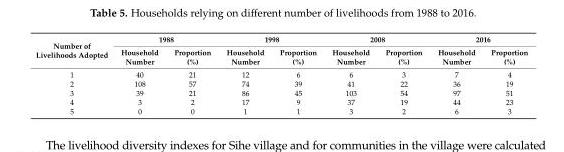table: (35, 34, 527, 115)
table column: (35, 34, 113, 115), (165, 34, 218, 115), (218, 34, 271, 115), (323, 34, 376, 115), (376, 34, 429, 115), (429, 34, 482, 115), (113, 34, 165, 115), (271, 34, 323, 115), (482, 34, 527, 115)
table column header: (35, 34, 527, 67)
table row: (35, 45, 527, 67), (35, 34, 527, 45), (35, 67, 527, 78), (35, 96, 527, 106), (35, 78, 527, 87), (35, 87, 527, 96), (35, 106, 527, 115)
table spanning cell: (35, 34, 113, 67), (323, 34, 429, 45), (113, 34, 218, 45), (218, 34, 323, 45), (429, 34, 527, 45)
